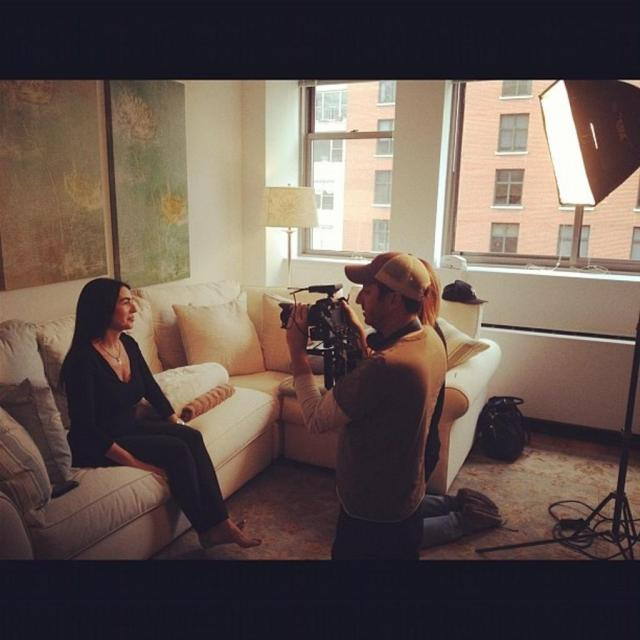nomask: (355, 280, 387, 326), (112, 286, 137, 329)
